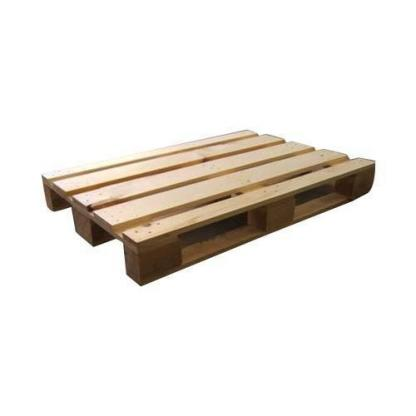BoxFace: (43, 128, 379, 292)
